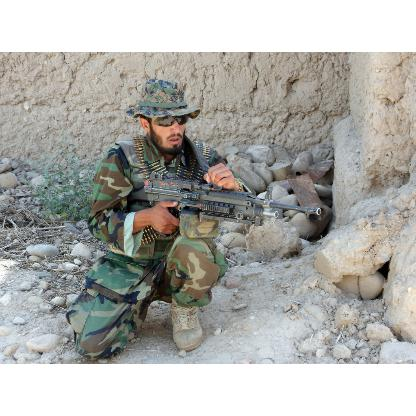gun: (126, 165, 310, 243)
